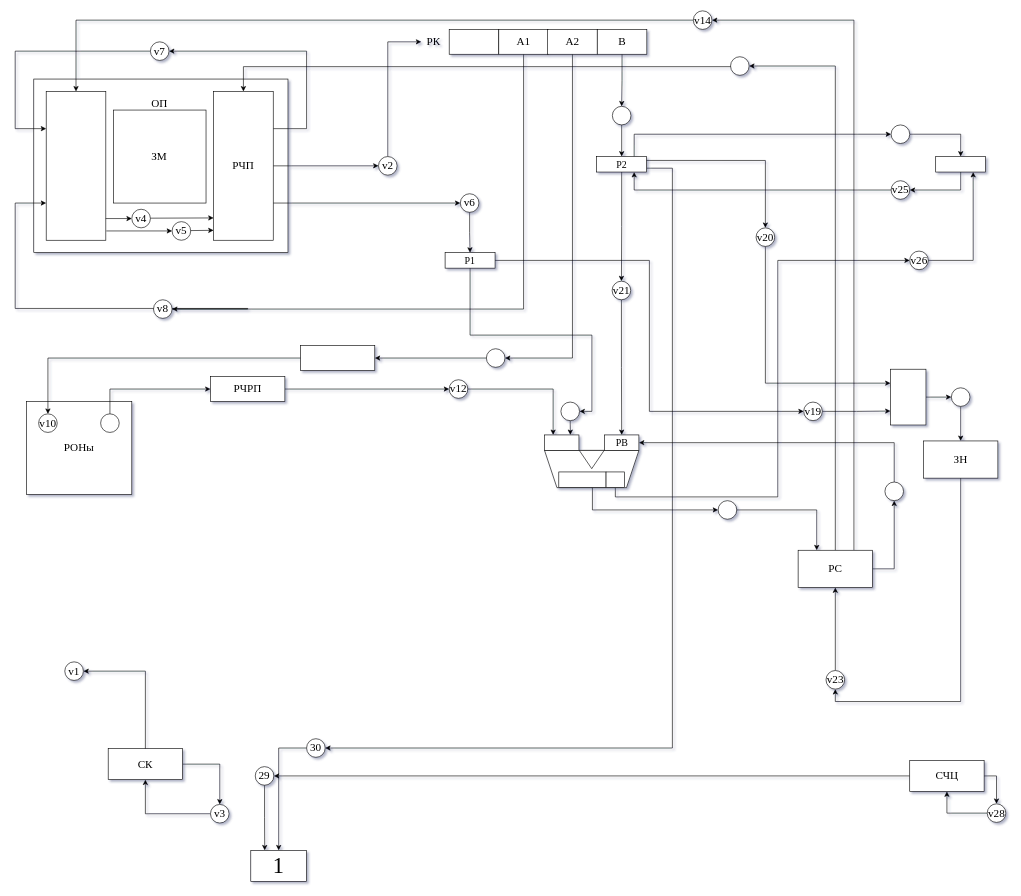
The diagram is 1021 pixels wide and 896 high, and some of its shapes have lost their labels. The centre of each missing label's shape, as x and y in pixels:
v11: point 109,422
v13: point 621,115
v16: point 727,509
v17: point 739,65
v18: point 570,411
v22: point 960,396
v24: point 900,134
v27: point 894,491
v9: point 495,357
XOR: point 908,397
КОП: point 474,41
МЛ.: point 615,479
Р3: point 960,164
РА: point 561,442
РАП: point 76,165
РАРП: point 337,357
СТАРШ.: point 582,479
